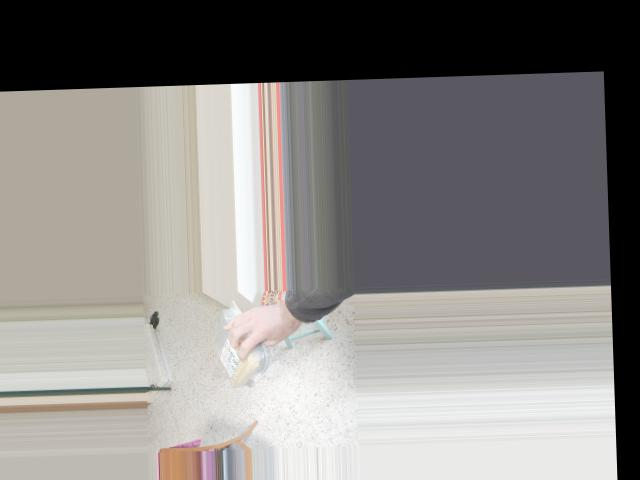cheese: (215, 300, 261, 388)
